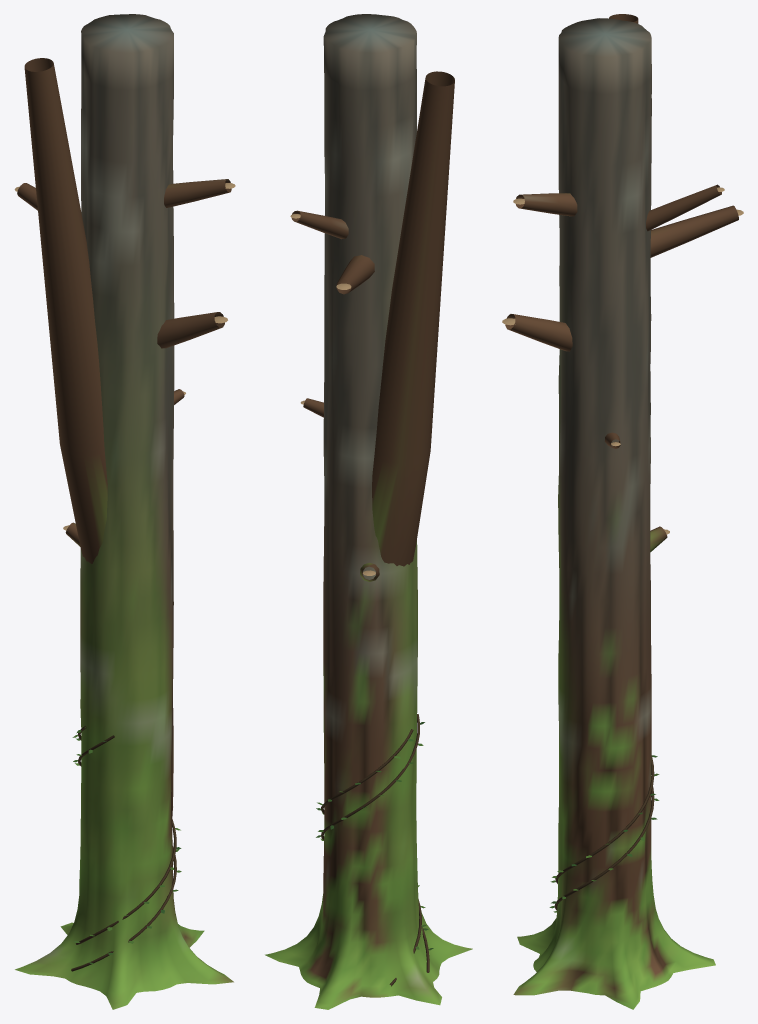
File: BgTrunk_C.fbx
The picture shows the model from 3 angles, left to right: view 1: azimuth 30°, elevation 25°; view 2: azimuth 150°, elevation 25°; view 3: azimuth 270°, elevation 25°; orthographic projection.
Visible parts, largest first — view 1: BgTrunk_C; view 2: BgTrunk_C; view 3: BgTrunk_C.
Boxes of the visible parts, bbox=[...] form: BgTrunk_C: bbox=[14, 14, 235, 1009]; BgTrunk_C: bbox=[265, 14, 472, 1009]; BgTrunk_C: bbox=[502, 14, 743, 1009].
Size of the model in its own units: 50.09 by 244 by 57.25.
